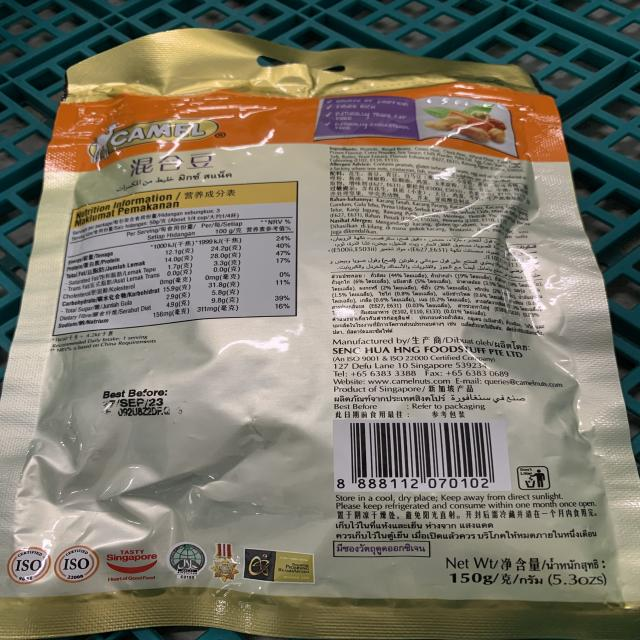object_name: (26, 52, 640, 633)
